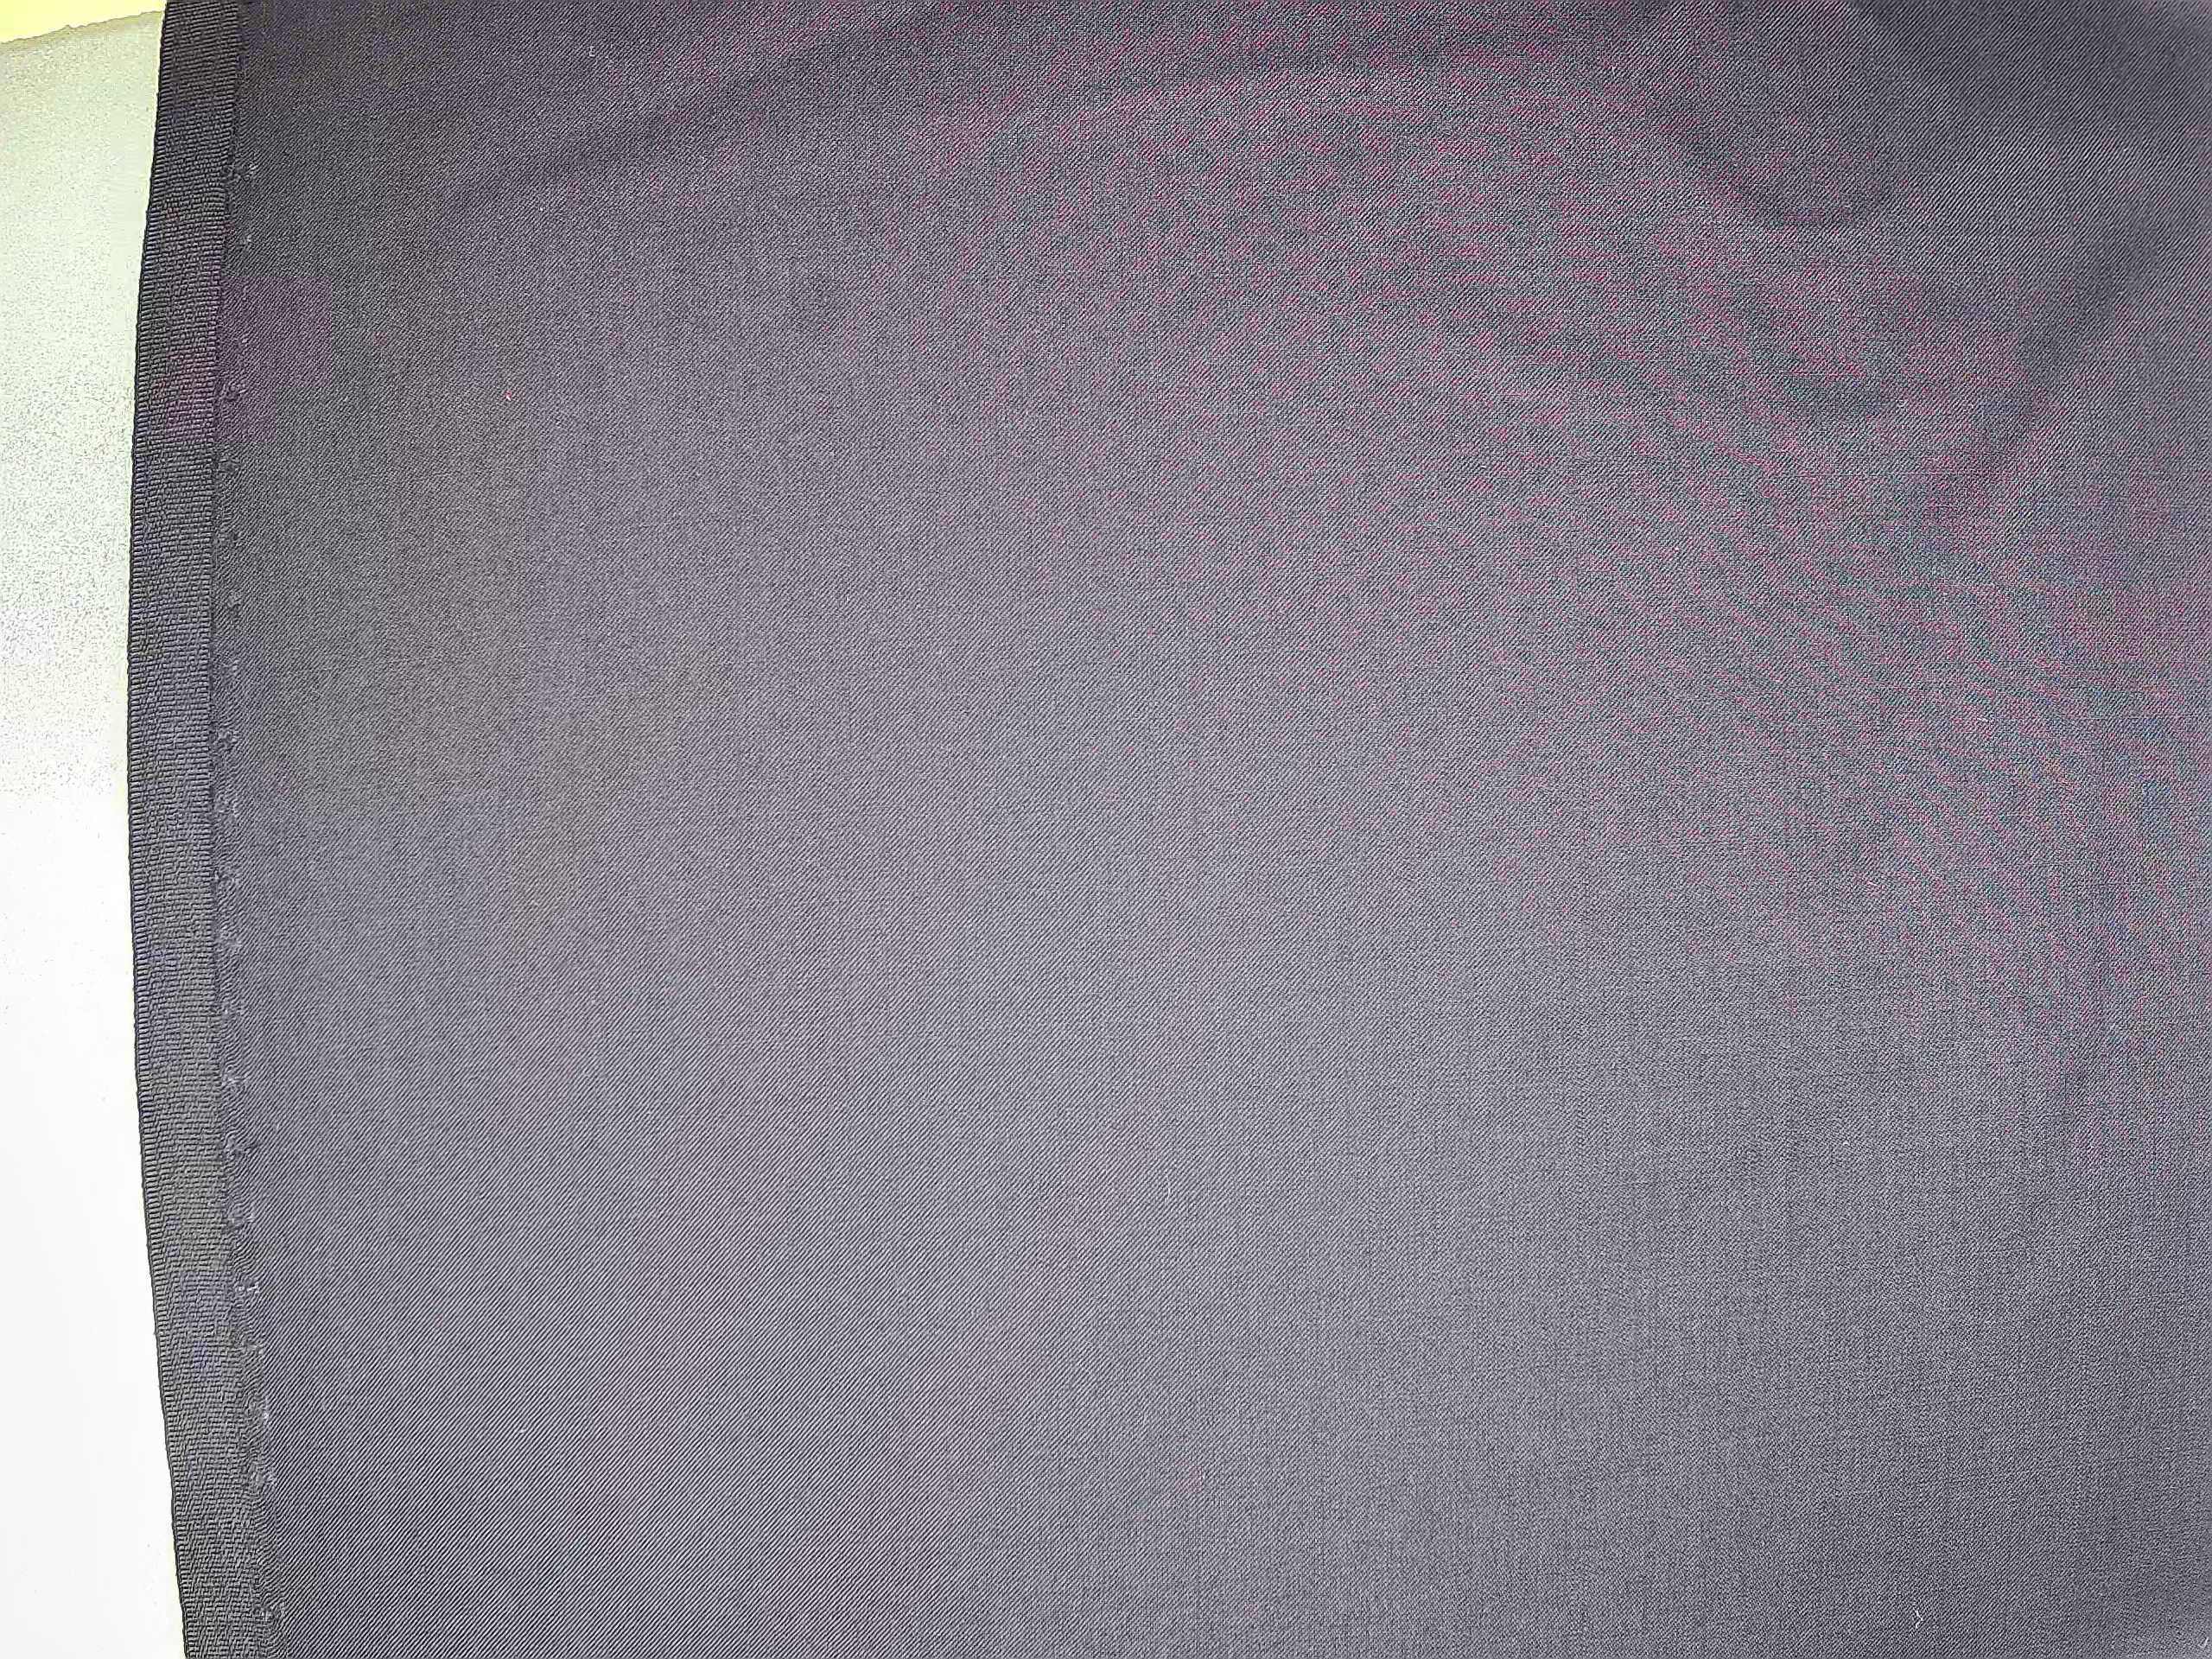puncture-hole: (202, 19, 293, 1629)
